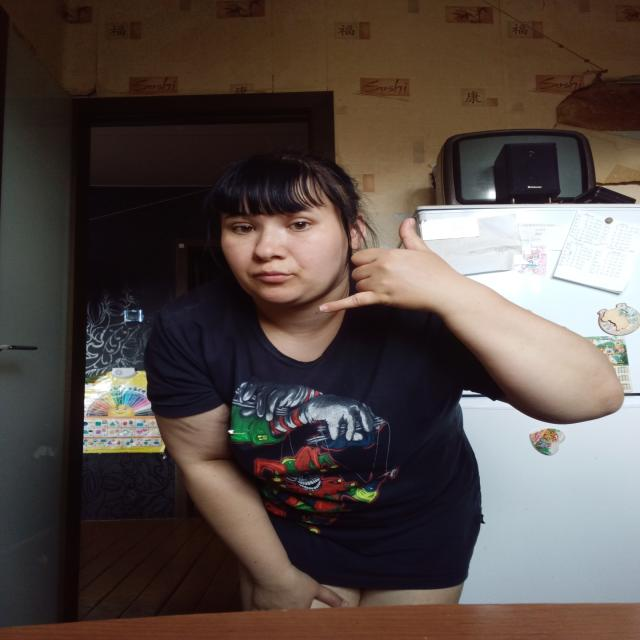call: (316, 212, 451, 318)
